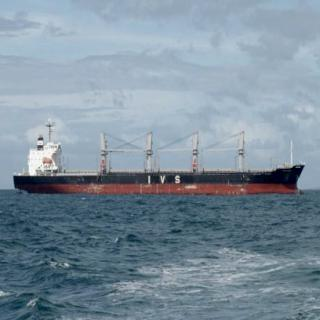Bulk Carrier: (5, 136, 307, 196)
